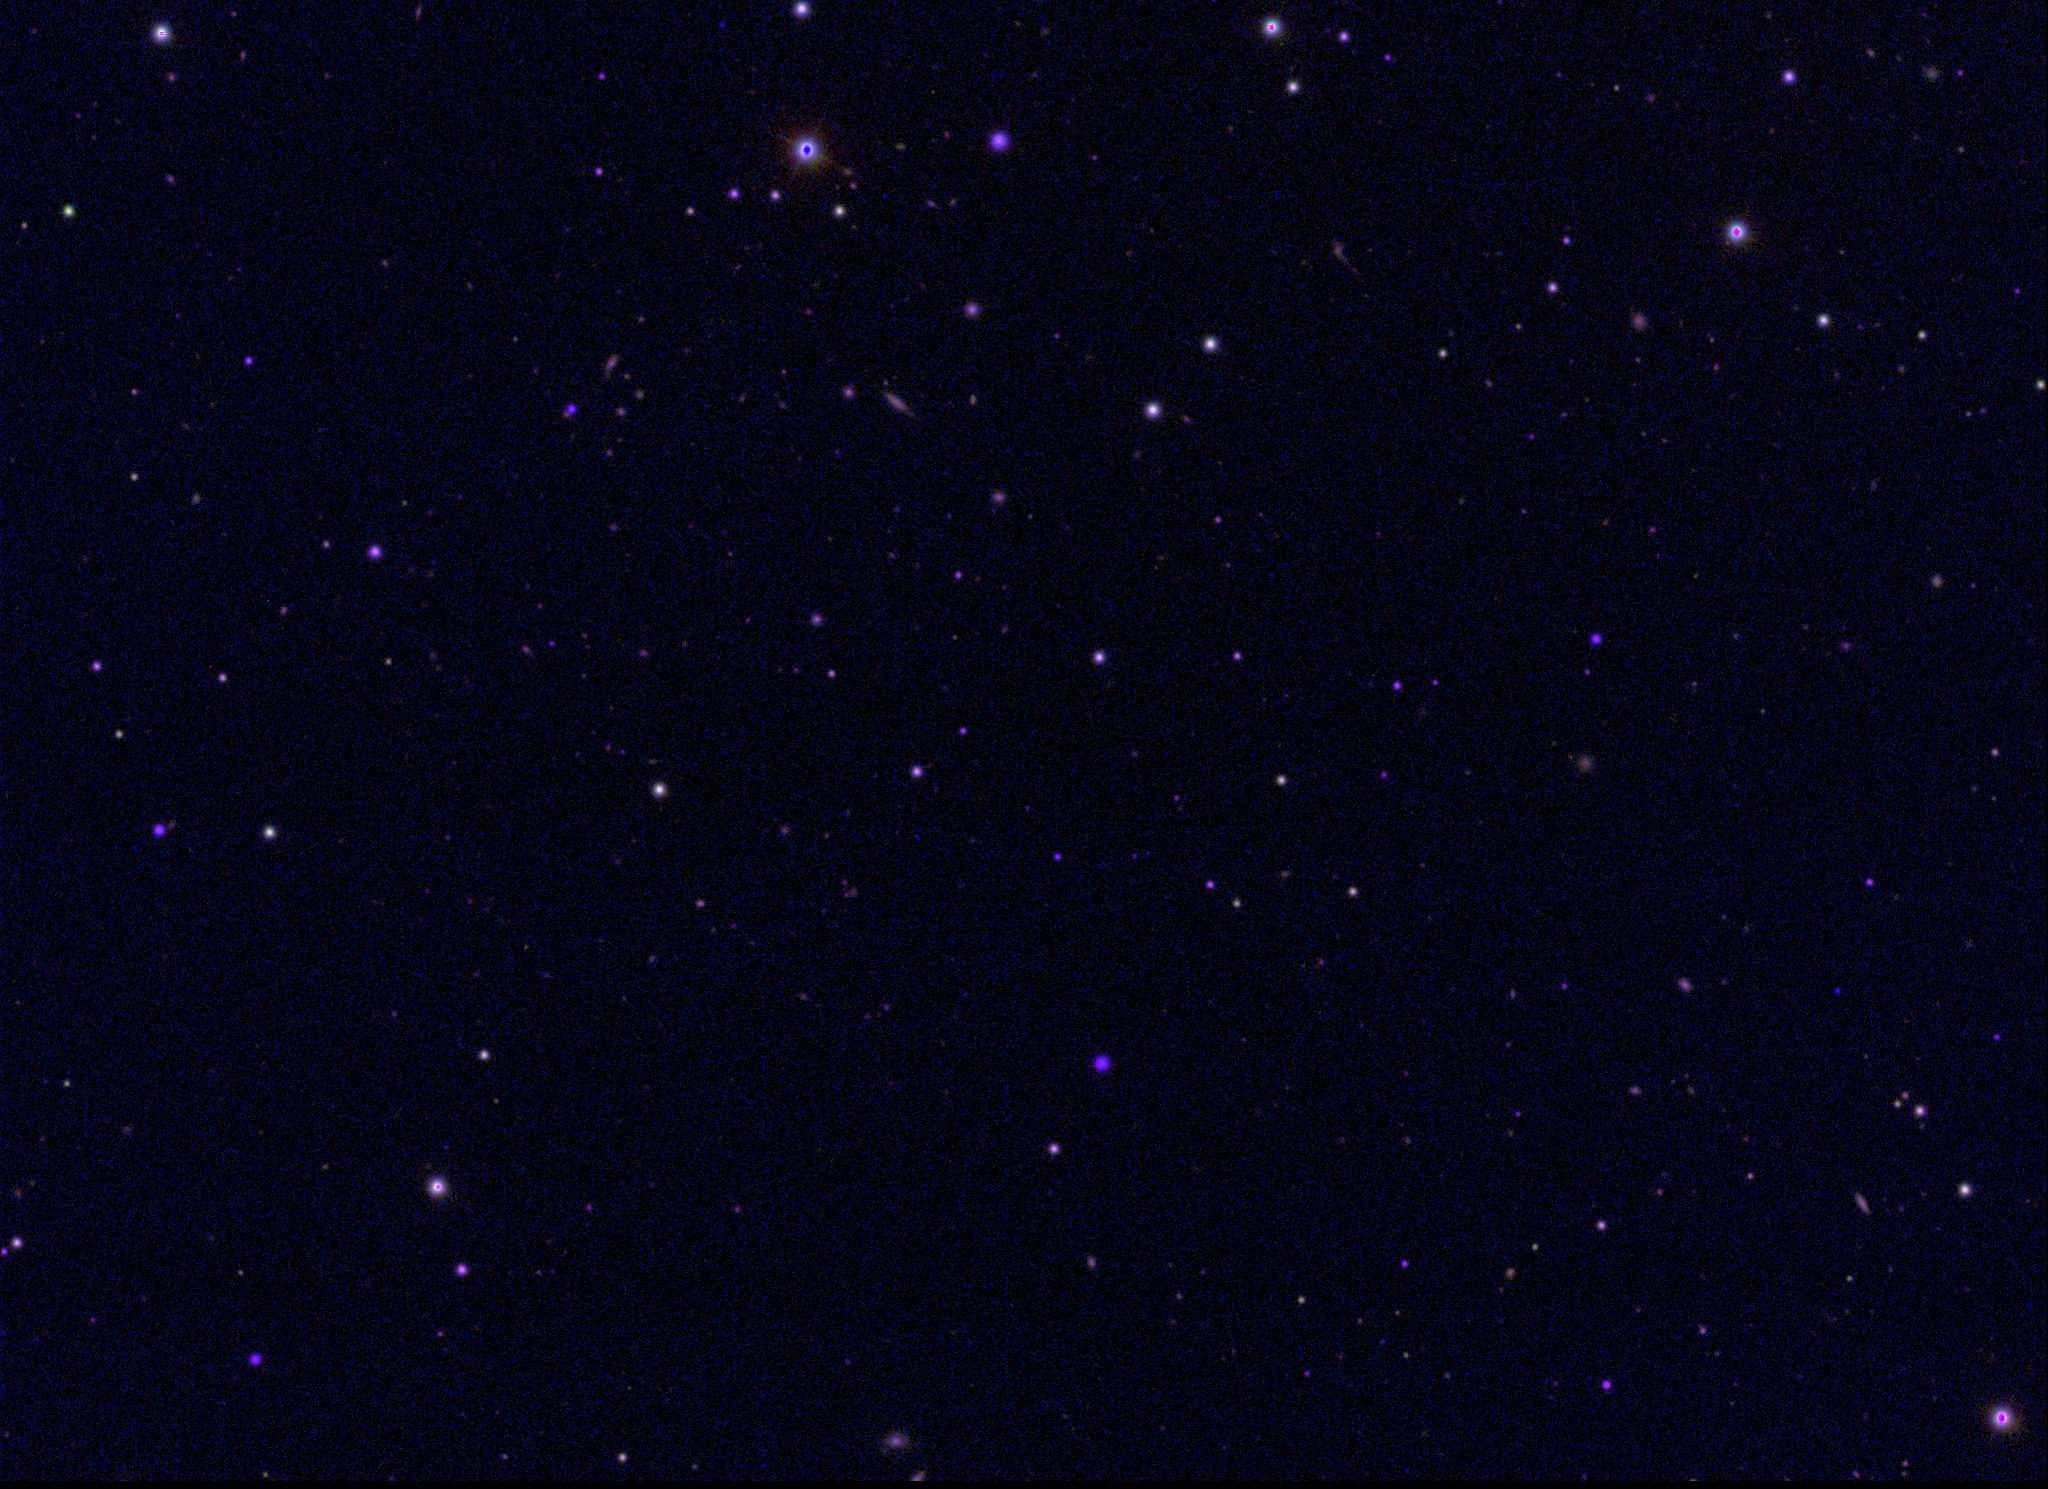L: (1829, 985, 1843, 997)
